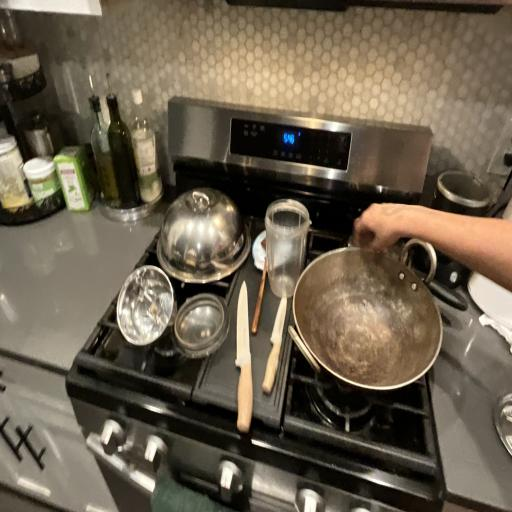Pan: (289, 216, 454, 405)
Stove: (48, 84, 468, 512)
knife: (223, 275, 258, 443), (262, 292, 292, 408)
